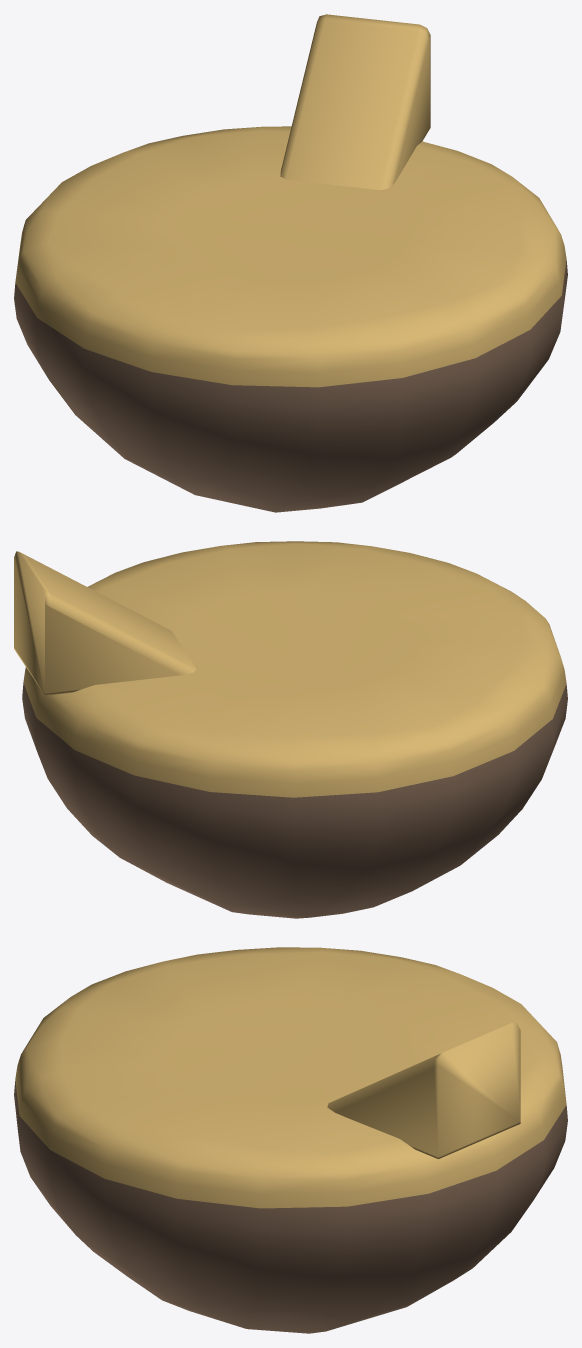
The model's file is SB_Island_02.fbx.
The picture shows the model from 3 angles, top to bottom: view 1: azimuth 30°, elevation 25°; view 2: azimuth 150°, elevation 25°; view 3: azimuth 270°, elevation 25°; orthographic projection. The views are drawn at different scales.
Visible parts, largest first — view 1: SB_Island_02; view 2: SB_Island_02; view 3: SB_Island_02.
Part boxes in pixels (left/top/right/bottom): SB_Island_02: left=14, top=14, right=567, bottom=512; SB_Island_02: left=14, top=541, right=567, bottom=918; SB_Island_02: left=14, top=947, right=567, bottom=1333.
Size of the model in its own units: 14.12 by 10.12 by 14.11.
